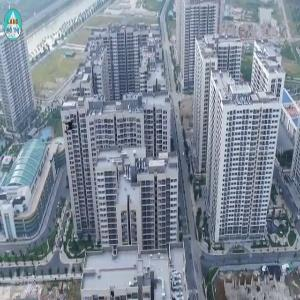drone: (52, 107, 90, 145)
